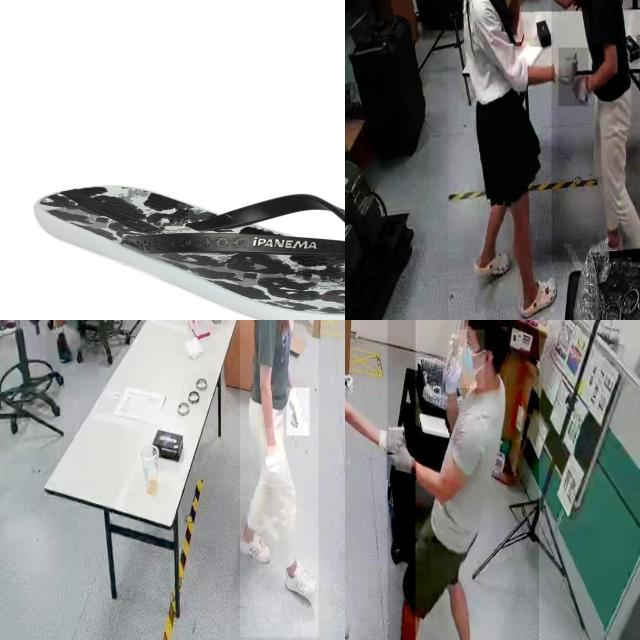Sandals: (30, 181, 345, 320)
face_mask: (458, 330, 484, 388)
hand_glove: (559, 48, 589, 107), (260, 428, 285, 488), (386, 430, 416, 480), (376, 411, 406, 457), (286, 388, 310, 436)
person: (387, 320, 539, 640), (448, 0, 557, 320), (240, 320, 319, 638), (551, 0, 640, 262), (345, 320, 415, 640), (46, 320, 97, 377)
shoes: (280, 557, 320, 603), (238, 522, 274, 570), (52, 326, 72, 366)
